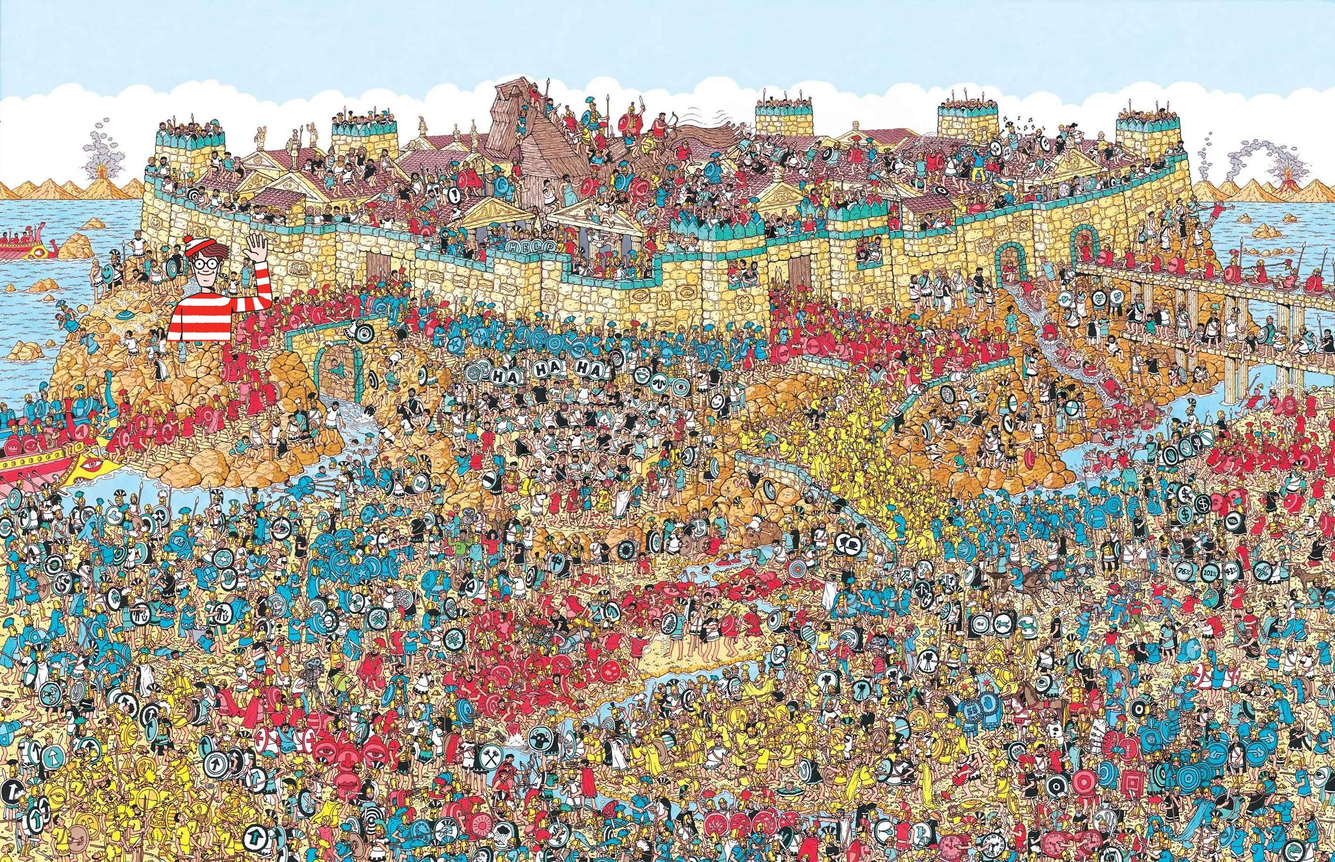waldo: (165, 233, 273, 341)
